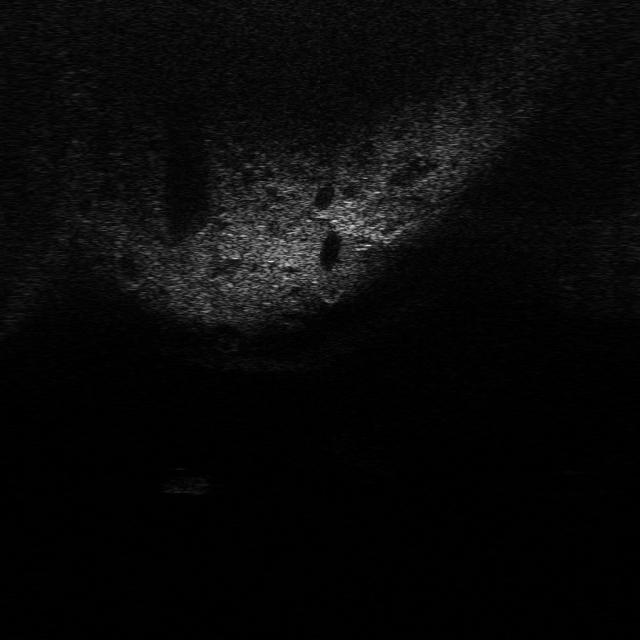ball: (312, 273, 349, 305)
cube: (157, 468, 212, 496)
